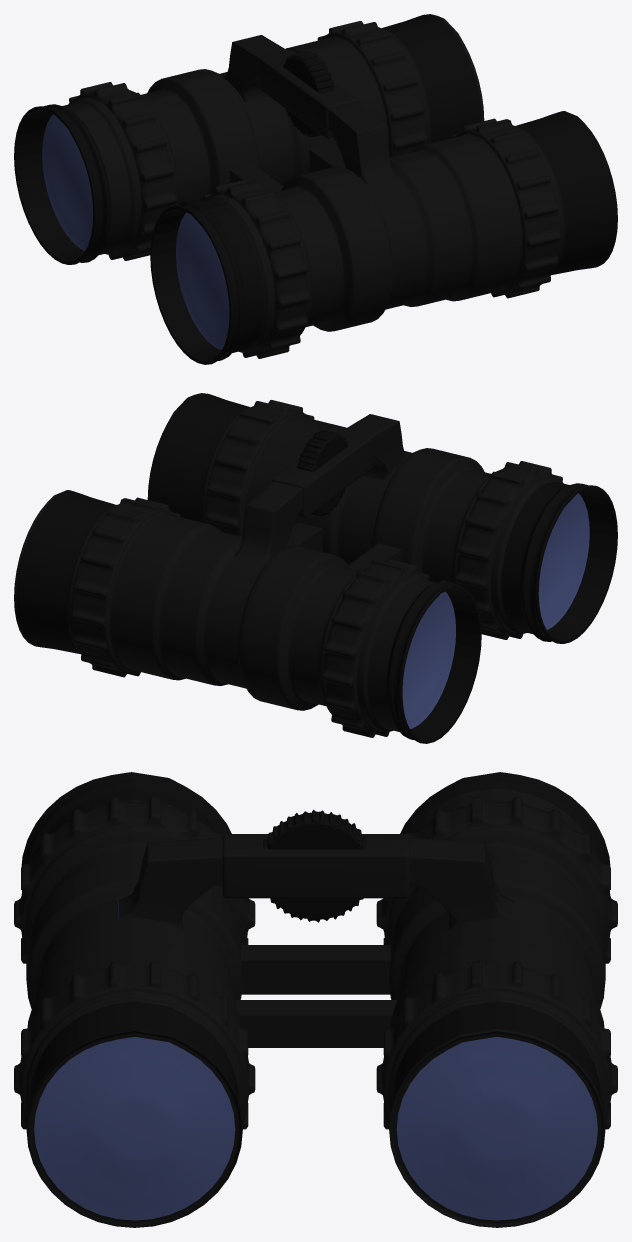
Rendered from Binocular_High.fbx.
3 views of the same model, one above another, from view 1: azimuth 30°, elevation 25°; view 2: azimuth 150°, elevation 25°; view 3: azimuth 270°, elevation 25° (orthographic). The views are drawn at different scales.
Parts seen in each view (by area): view 1: Binocular_High; view 2: Binocular_High; view 3: Binocular_High.
Boxes of the visible parts, <box> form: Binocular_High: <box>14,14,617,364</box>; Binocular_High: <box>14,393,617,743</box>; Binocular_High: <box>14,772,617,1227</box>.
Size of the model in its own units: 16.79 by 8.75 by 16.49.
